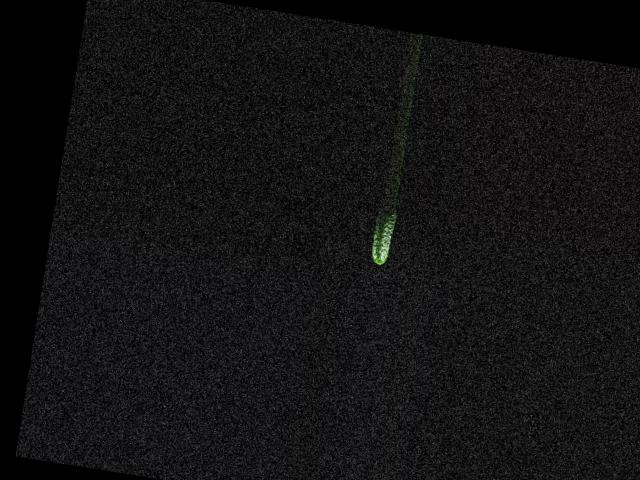cucumber: (369, 204, 399, 266)
